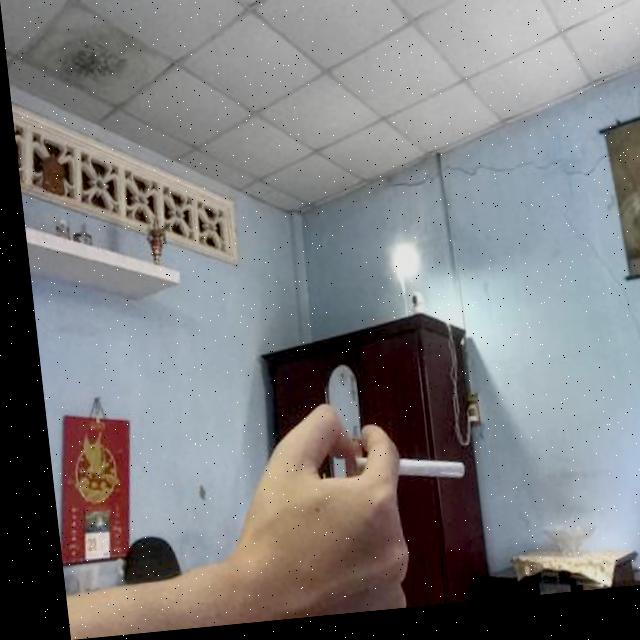cigarette: (338, 453, 455, 496)
